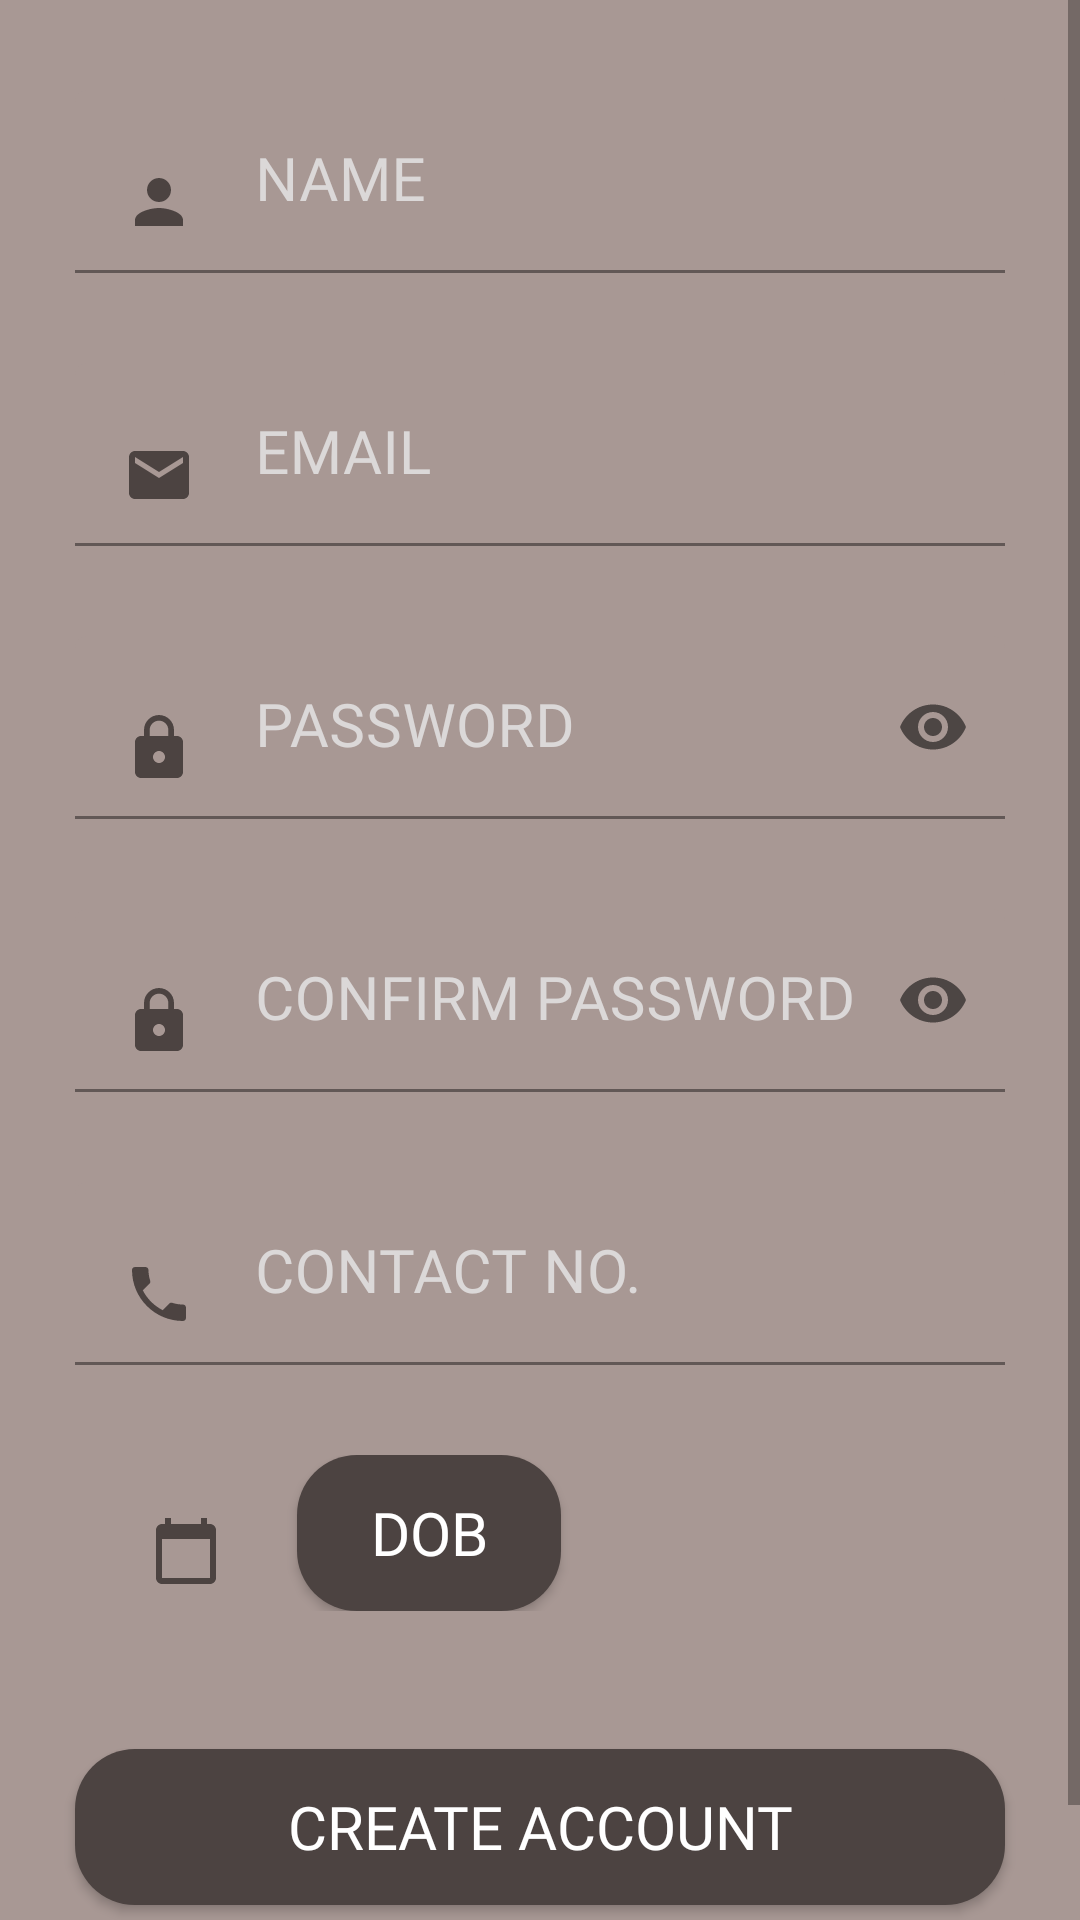

Named icons in this screenshot (1080px×1920px) and their bounding boxes, Rect(x1, y1, x2, y2):
calendar: Rect(156, 1518, 216, 1584)
